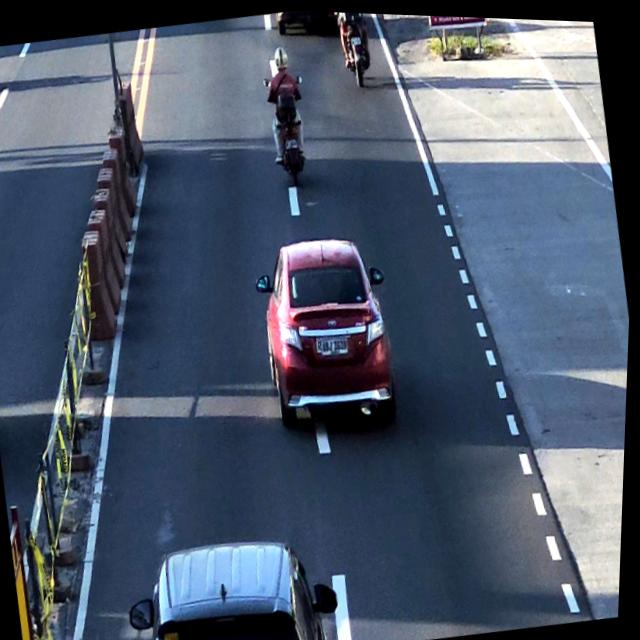Car: (254, 223, 406, 429), (139, 530, 333, 640)
License-Plate: (316, 327, 357, 361), (285, 134, 302, 150)
Motorcycle: (261, 41, 314, 184), (334, 10, 376, 87)
